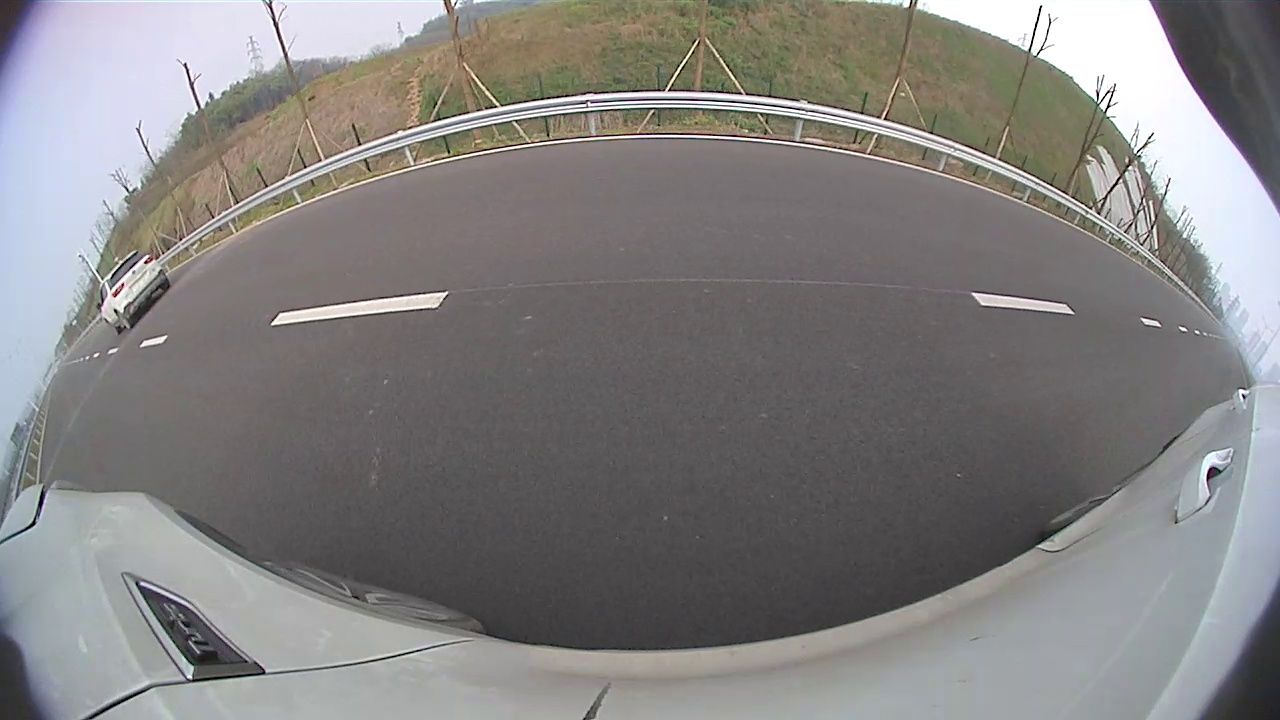car: (98, 248, 170, 333)
rear: (112, 310, 131, 330)
